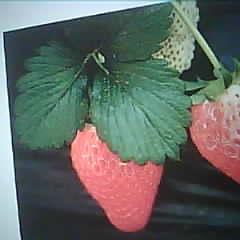straw-ripe: (74, 125, 165, 232), (185, 81, 240, 184)
